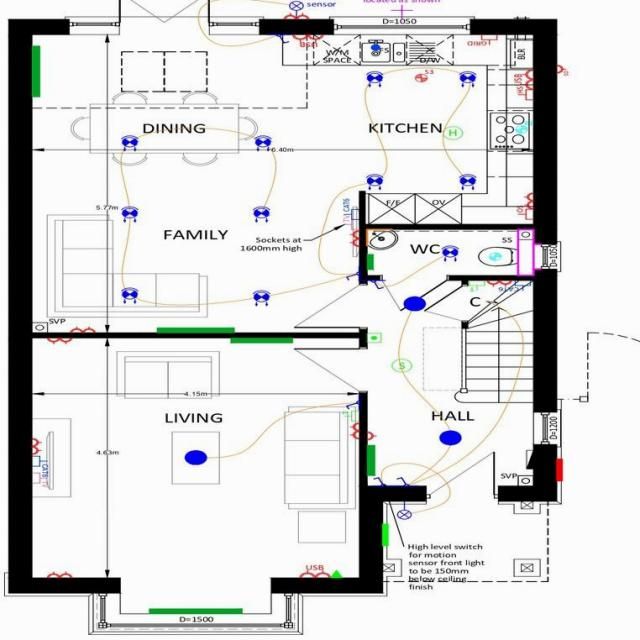BT Entry Point: (330, 569, 340, 577)
Cat 6 Data Socket: (342, 198, 358, 218), (498, 280, 530, 290), (32, 455, 47, 476)
Ceiling Mounted Continuous Extract FanWith Boost Mode Activated By Light Switch: (488, 251, 500, 260)
Ceiling Mounted Continuous Extract FanWith Local Boost Switch: (414, 69, 433, 81)
Co-Ax TV Socket: (31, 472, 47, 486), (342, 215, 358, 228)
Double Socket: (46, 570, 71, 577), (348, 229, 358, 246), (70, 325, 94, 332), (522, 192, 532, 208), (348, 422, 358, 438), (486, 280, 512, 286), (31, 438, 41, 453), (283, 12, 307, 18), (46, 338, 72, 343)
Electric Meter Box: (555, 458, 562, 480)
External Wall Light: (396, 501, 411, 519), (288, 0, 303, 17)
Gas Meter Box: (381, 523, 388, 545)
Grid Switch: (467, 34, 496, 46)
Hob Switch: (516, 86, 532, 99)
Light Switch: (369, 280, 384, 289), (345, 399, 358, 409), (276, 34, 288, 43), (396, 476, 408, 485), (345, 272, 358, 280), (373, 476, 384, 484)
Low Energy Downlighter: (120, 286, 138, 304), (365, 173, 383, 190), (441, 244, 458, 262), (120, 205, 138, 222), (458, 70, 475, 87), (252, 289, 269, 306), (120, 134, 138, 150), (253, 134, 271, 150), (252, 206, 270, 222), (365, 70, 382, 86), (458, 173, 475, 189)
Low Energy Pendant Light: (439, 429, 461, 444), (184, 450, 207, 464), (403, 296, 425, 310)
Mains Wired Smoke Detector: (390, 358, 410, 371)
Outside Socket: (556, 64, 568, 76)
Outside Tap: (390, 4, 412, 18)
Oven Switch: (516, 205, 532, 219)
Programmable Room Thermostat: (366, 332, 381, 342)
Radiator: (156, 326, 234, 332), (31, 44, 40, 96), (149, 608, 242, 613), (366, 444, 375, 474), (230, 338, 292, 342), (366, 254, 373, 268)
Recirculating Extractor Fan: (515, 119, 531, 133)
Single Socket: (366, 431, 376, 439)
Telephone Socket: (468, 280, 484, 292), (342, 409, 358, 421)
USB Double Socket: (298, 564, 330, 577), (513, 68, 533, 88), (292, 34, 322, 47)
Water Entry Position: (370, 44, 380, 50)
